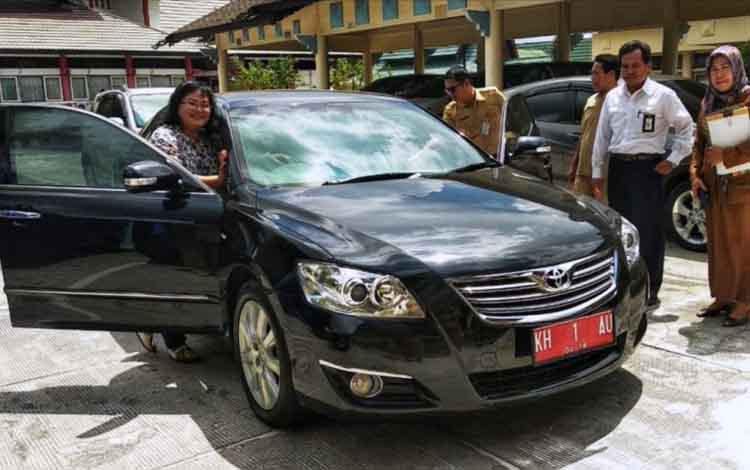plate: (534, 310, 614, 364)
